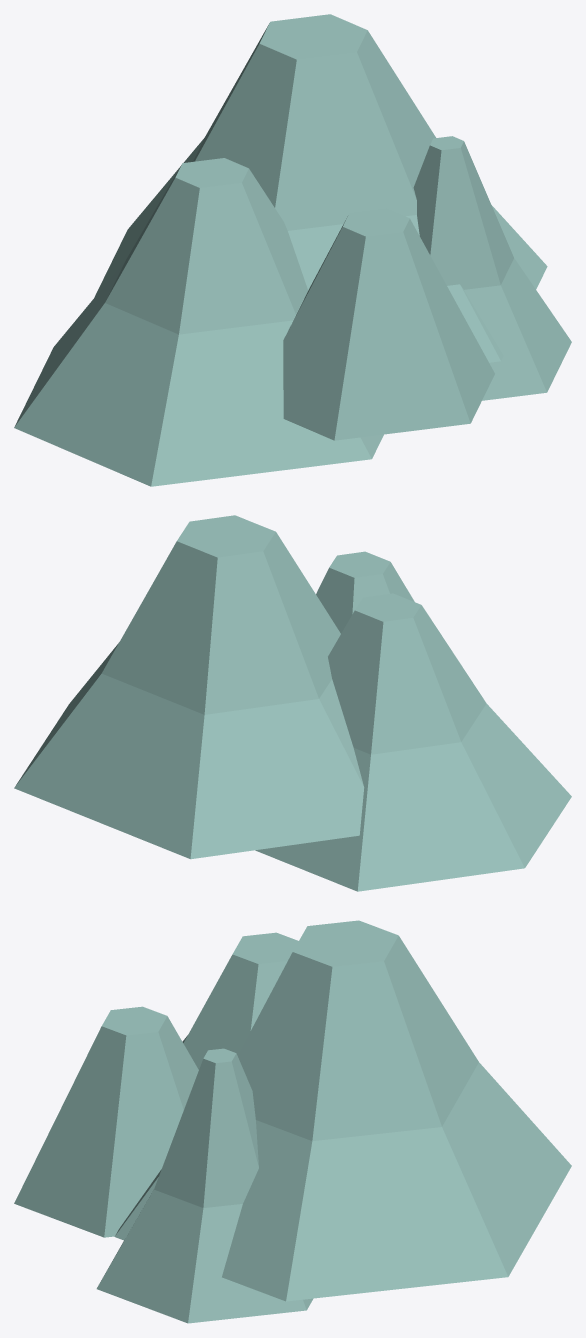
The model's file is Minerai_p01.fbx.
The picture shows the model from 3 angles, top to bottom: view 1: azimuth 30°, elevation 25°; view 2: azimuth 150°, elevation 25°; view 3: azimuth 270°, elevation 25°; orthographic projection. The views are drawn at different scales.
Visible parts, largest first — view 1: Minerai.005; view 2: Minerai.005; view 3: Minerai.005.
Boxes of the visible parts, x1,y1,x2,y2 form: Minerai.005: [14, 14, 571, 486]; Minerai.005: [14, 515, 571, 891]; Minerai.005: [14, 920, 571, 1323].
Bounding box in the file's own units: 110 × 61.09 × 102.
